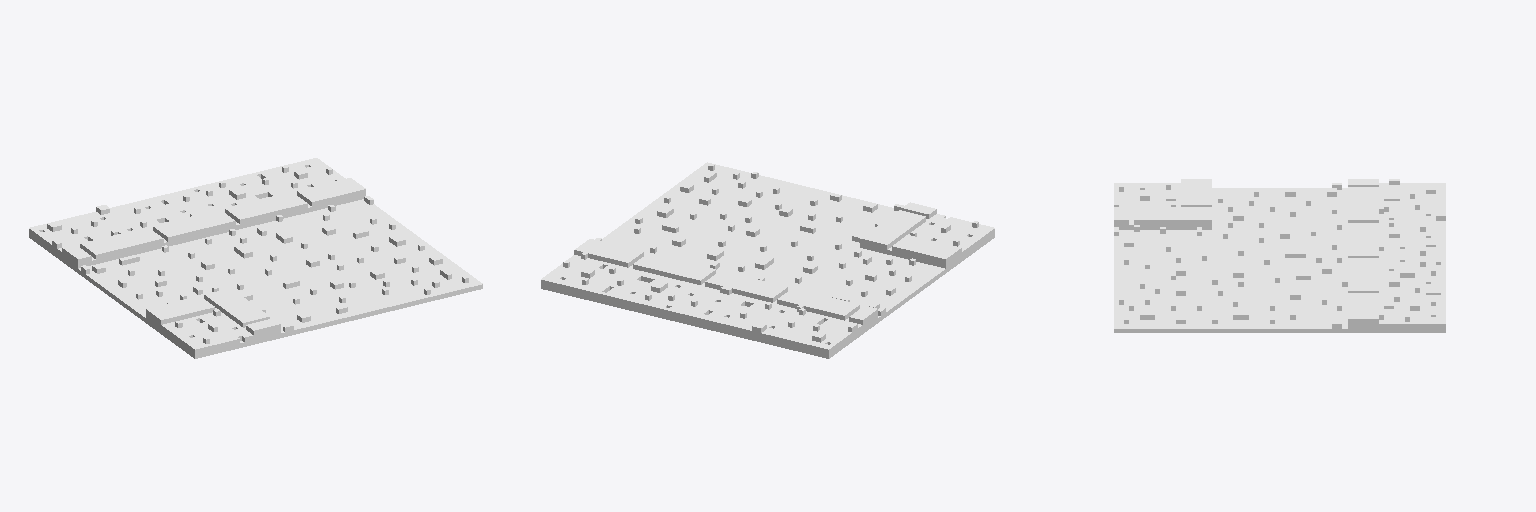
Rendered from EarthenPath3Fork_2.obj.
3 renders of one model, left to right at view 1: azimuth 30°, elevation 25°; view 2: azimuth 150°, elevation 25°; view 3: azimuth 270°, elevation 25°, orthographic.
Visible parts, largest first — view 1: EarthenPath3Fork_2; view 2: EarthenPath3Fork_2; view 3: EarthenPath3Fork_2.
Part boxes in pixels (left/top/right/bottom): EarthenPath3Fork_2: left=29, top=158, right=482, bottom=358; EarthenPath3Fork_2: left=541, top=162, right=994, bottom=358; EarthenPath3Fork_2: left=1114, top=179, right=1445, bottom=332.
Size of the model in its own units: 1 by 0.0469 by 1.